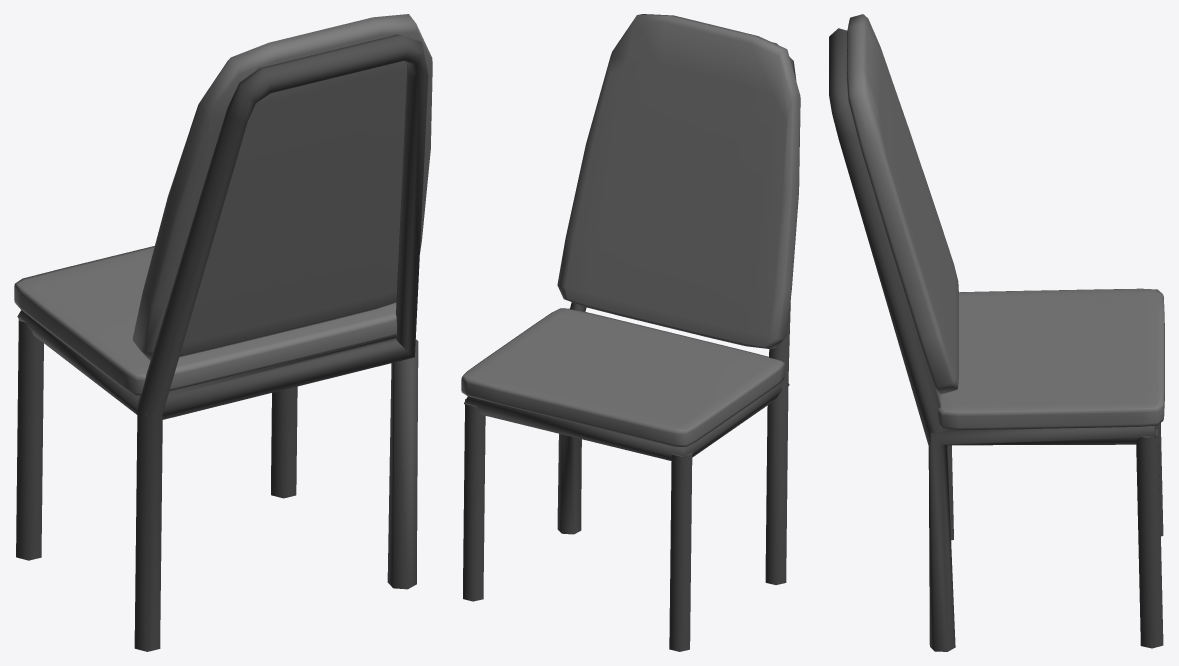
Rendered from Sedia.glb.
3 views of the same model, side by side, from view 1: azimuth 30°, elevation 25°; view 2: azimuth 150°, elevation 25°; view 3: azimuth 270°, elevation 25° (orthographic). The views are drawn at different scales.
Visible parts, largest first — view 1: PRINCIPALOFFICEchair; view 2: PRINCIPALOFFICEchair; view 3: PRINCIPALOFFICEchair.
Part boxes in pixels (x1,y1,x2,y2): PRINCIPALOFFICEchair: [14, 14, 432, 651]; PRINCIPALOFFICEchair: [461, 14, 800, 651]; PRINCIPALOFFICEchair: [829, 14, 1164, 651].
Size of the model in its own units: 0.696 by 1.46 by 0.8118.
Materials: 2 (2 with a texture image).
